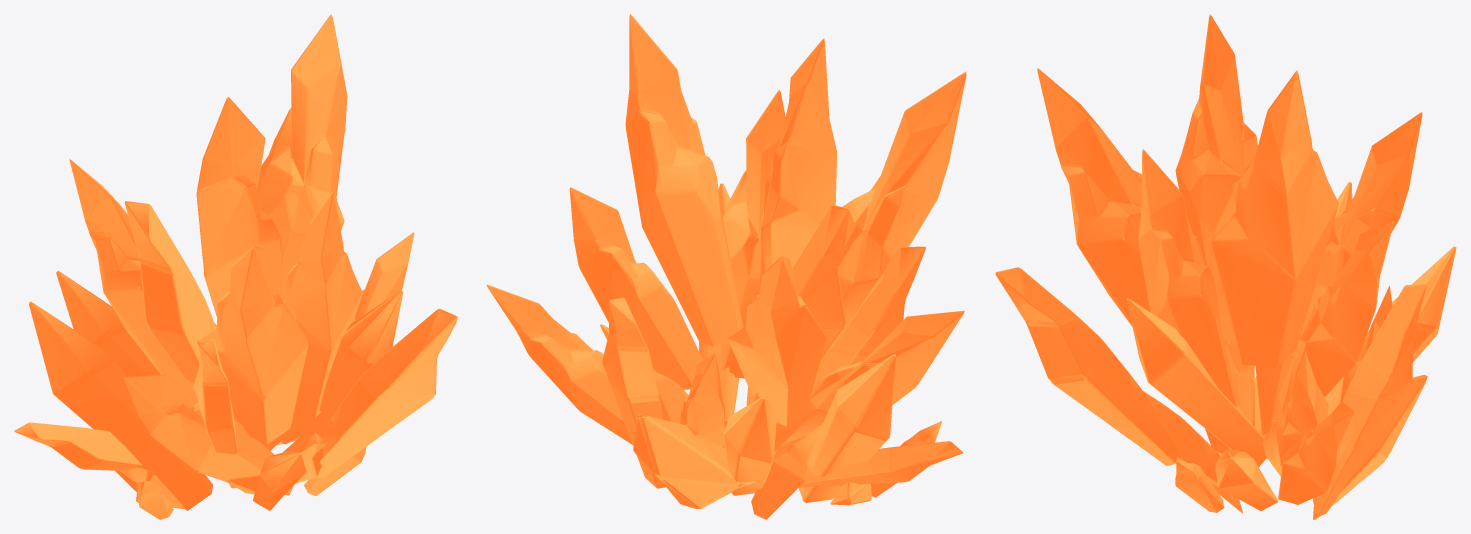
Rendered from 2-shuijing.FBX.
The picture shows the model from 3 angles, left to right: view 1: azimuth 30°, elevation 25°; view 2: azimuth 150°, elevation 25°; view 3: azimuth 270°, elevation 25°; orthographic projection. The views are drawn at different scales.
Parts seen in each view (by area): view 1: Object218; view 2: Object218; view 3: Object218.
Boxes of the visible parts, x1,y1,x2,y2 form: Object218: [14, 14, 457, 519]; Object218: [486, 14, 966, 519]; Object218: [995, 14, 1456, 519].
Bounding box in the file's own units: 0.776 × 0.7773 × 0.6764.
